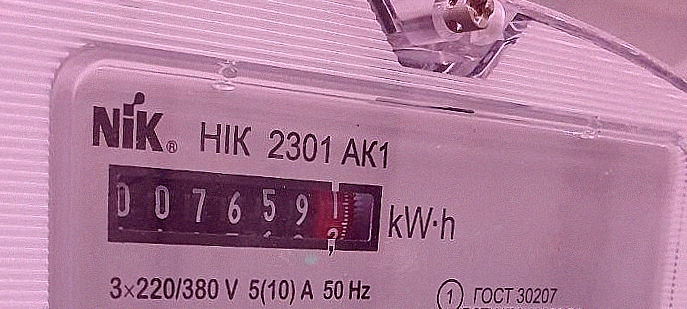0: (148, 180, 173, 221), (109, 178, 133, 219)
1: (326, 189, 343, 222)
5: (257, 185, 278, 224)
6: (222, 187, 244, 226)
7: (187, 184, 207, 225)
9: (292, 191, 309, 228)
screen: (96, 150, 391, 274)
